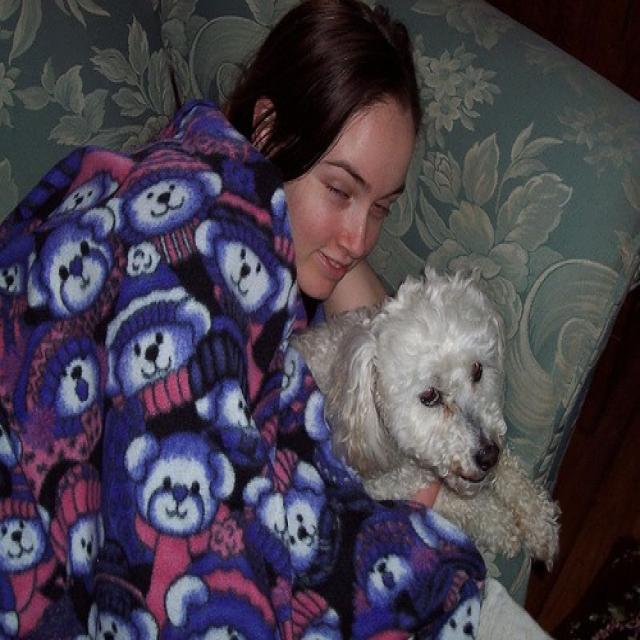dog: (297, 272, 564, 561)
person: (225, 1, 422, 334)
